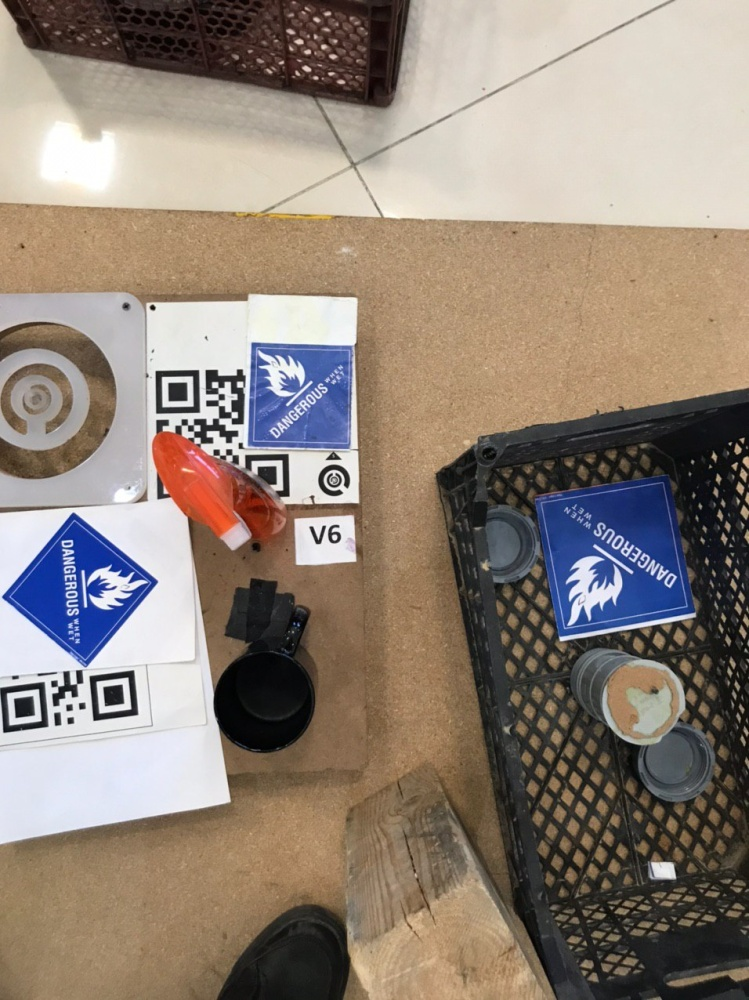Dangerous when wet: (535, 475, 696, 641), (2, 513, 158, 667), (248, 342, 352, 448)
